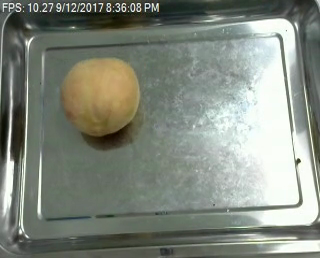Peach: (61, 56, 140, 135)
